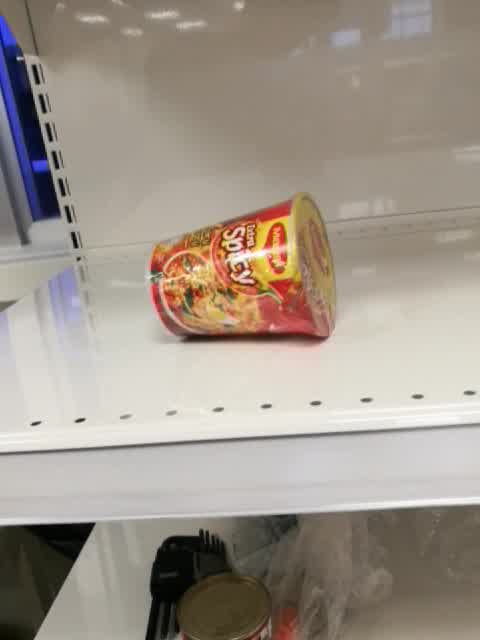maggi: (144, 193, 339, 341)
